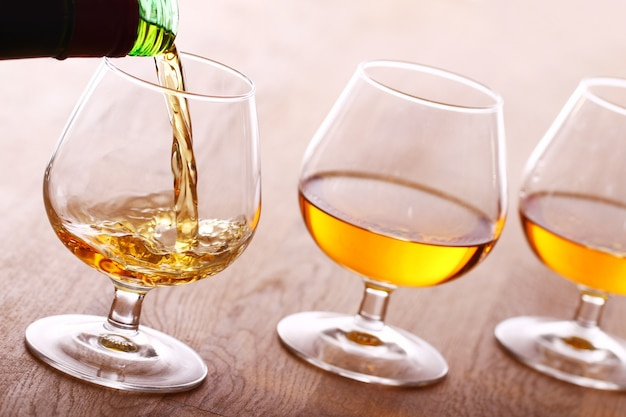alcohol: (22, 47, 265, 395), (276, 53, 507, 391), (519, 61, 626, 396), (0, 0, 177, 60)
